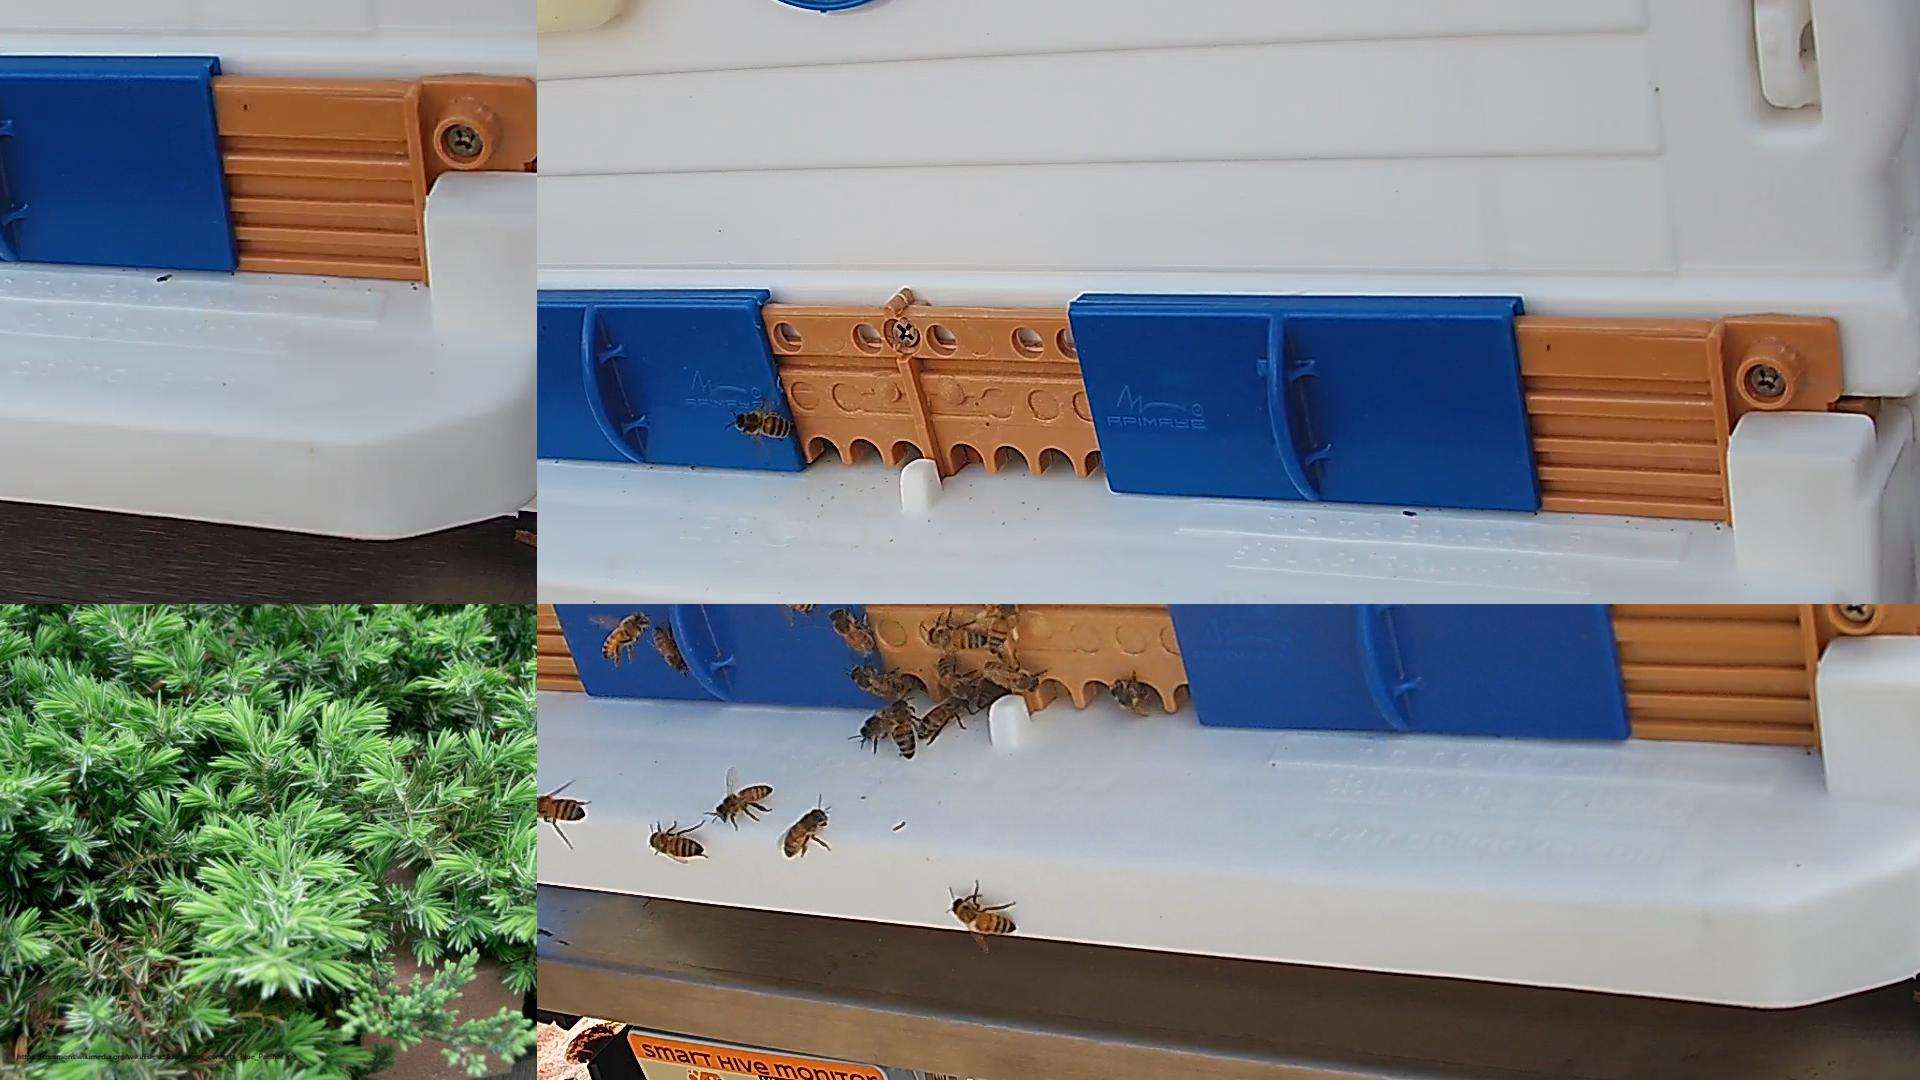bee: (600, 613, 649, 658), (785, 807, 828, 857), (955, 901, 1014, 935), (716, 785, 774, 819), (860, 705, 915, 738), (851, 666, 910, 696), (918, 703, 968, 738), (829, 611, 874, 650), (731, 411, 796, 438), (938, 659, 975, 703), (651, 628, 690, 669), (650, 829, 703, 858), (986, 662, 1040, 690), (1110, 682, 1159, 712), (537, 794, 585, 824), (891, 702, 916, 758), (931, 628, 986, 646), (978, 682, 1010, 711)
pollenbee: (989, 604, 1021, 653)
